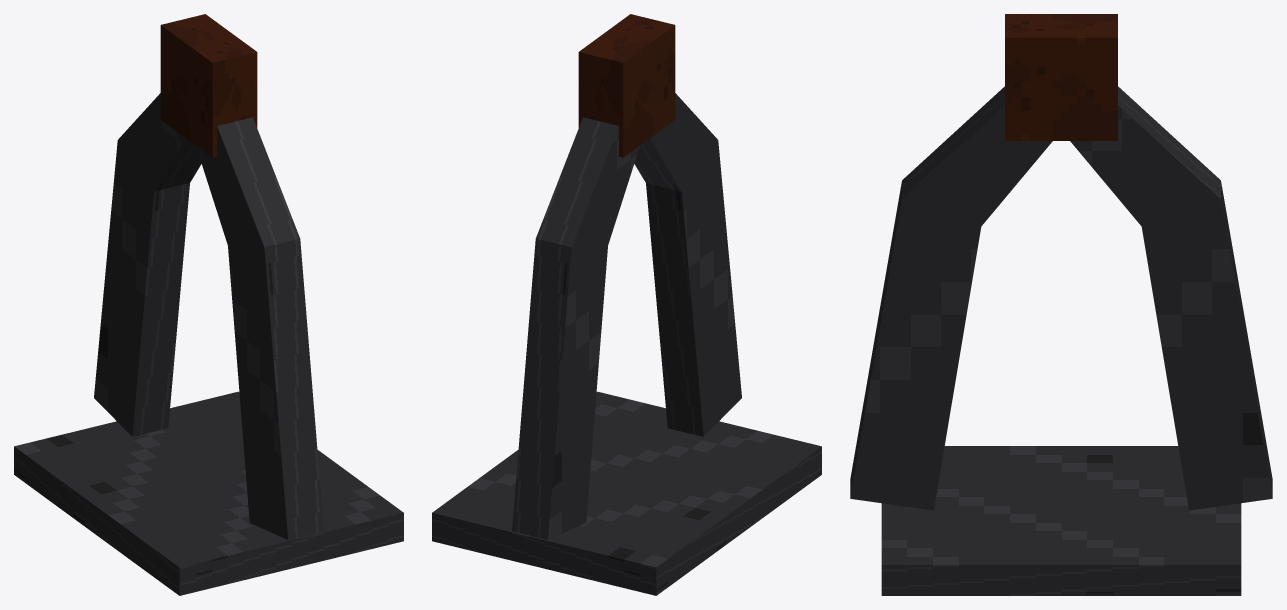
File: estribos.glb
The picture shows the model from 3 angles, left to right: view 1: azimuth 30°, elevation 25°; view 2: azimuth 150°, elevation 25°; view 3: azimuth 270°, elevation 25°; orthographic projection. The views are drawn at different scales.
Visible parts, largest first — view 1: arco, pisa, ojal; view 2: arco, pisa, ojal; view 3: arco, pisa, ojal.
Boxes of the visible parts, box(x1,y1,x2,y2) form: arco: box(94, 93, 323, 539); pisa: box(14, 391, 403, 595); ojal: box(160, 14, 257, 157); arco: box(512, 93, 741, 539); pisa: box(432, 391, 821, 595); ojal: box(578, 14, 675, 157); arco: box(850, 86, 1272, 510); pisa: box(881, 446, 1241, 595); ojal: box(1005, 14, 1117, 140).
Size of the model in its own units: 0.1 by 0.2 by 0.15.
Materials: 1 (1 with a texture image).
